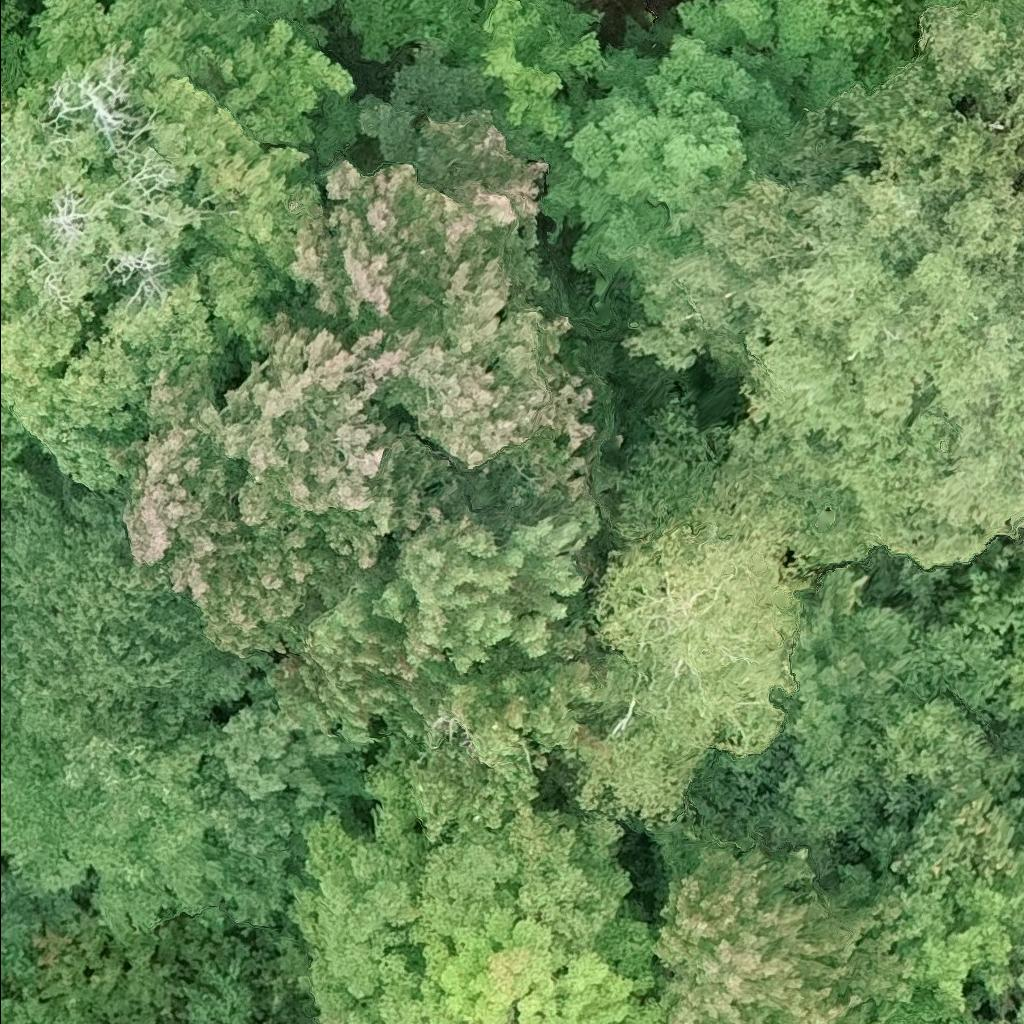crown: (0, 0, 358, 516), (617, 150, 1023, 566), (107, 311, 473, 652), (287, 769, 676, 1023), (571, 433, 817, 833), (541, 17, 863, 304), (288, 492, 611, 745), (0, 476, 272, 749), (288, 106, 554, 337), (374, 254, 598, 512), (651, 820, 915, 1023), (370, 647, 611, 844), (344, 0, 613, 159), (830, 0, 1023, 187), (670, 0, 925, 85), (990, 963, 1023, 1023), (952, 1014, 975, 1023)
